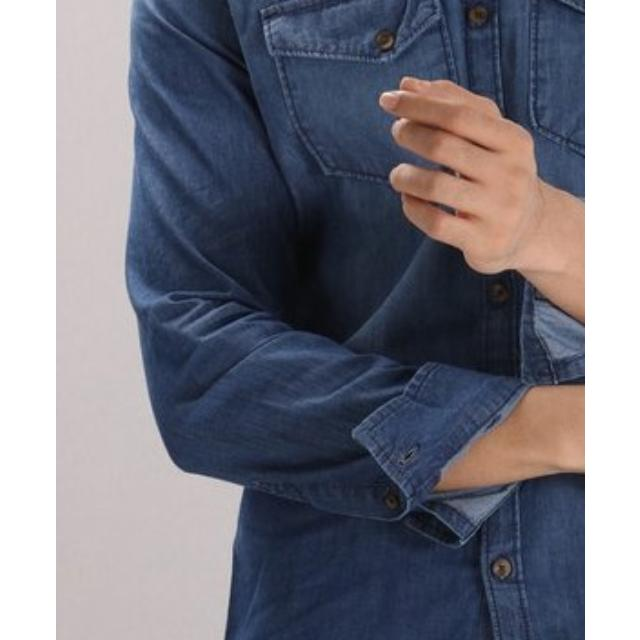denim: (128, 0, 584, 640)
